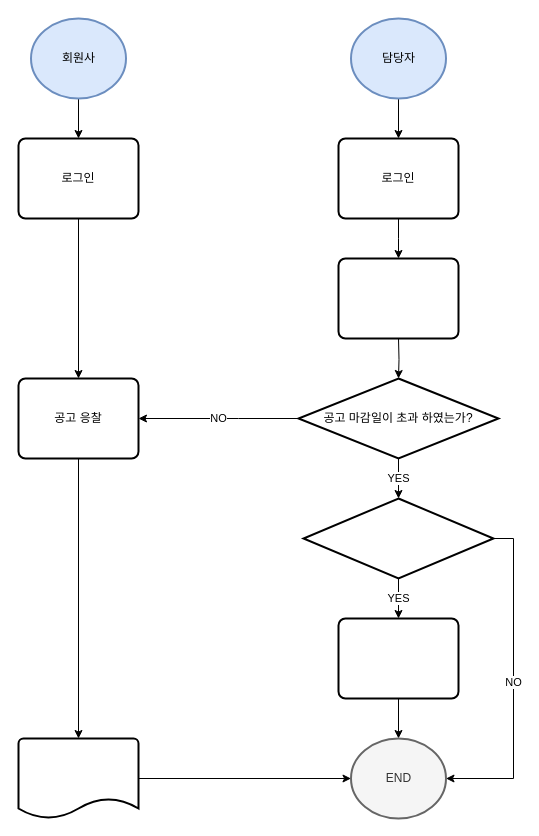
Image size: 539x836. Some labels were removed from this diagram. The shapes that lost their labels are listed below. From the top down, each one's box as (x1, y1, x2, y2) in pixels, then its label:
(337, 257, 459, 339): 공고 등록
(302, 497, 494, 579): 응찰 회원사가 존재하는가?
(337, 617, 459, 699): 낙찰 / 유찰
(17, 737, 139, 819): 응찰 결과 확인
